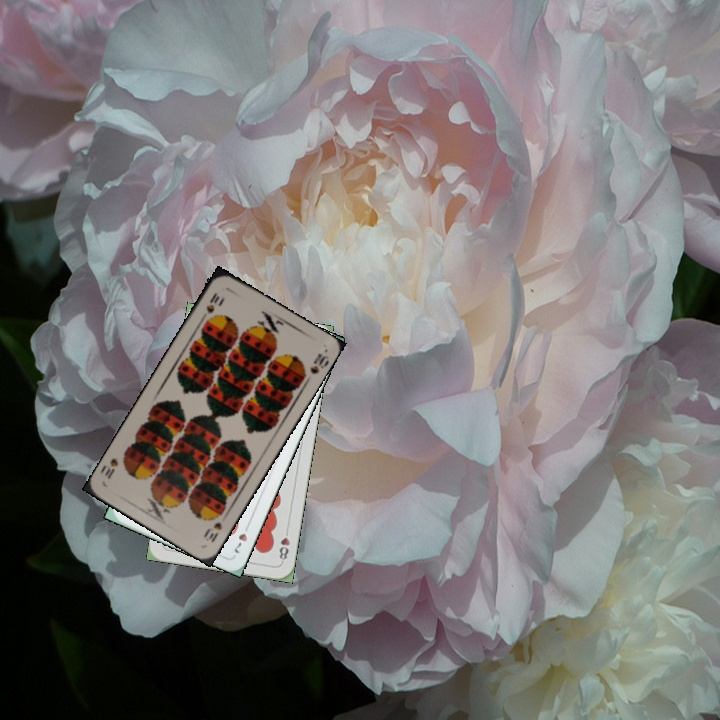H7: (230, 519, 252, 556)
H8: (275, 525, 292, 565)
S10: (200, 518, 224, 545), (202, 288, 222, 316)
